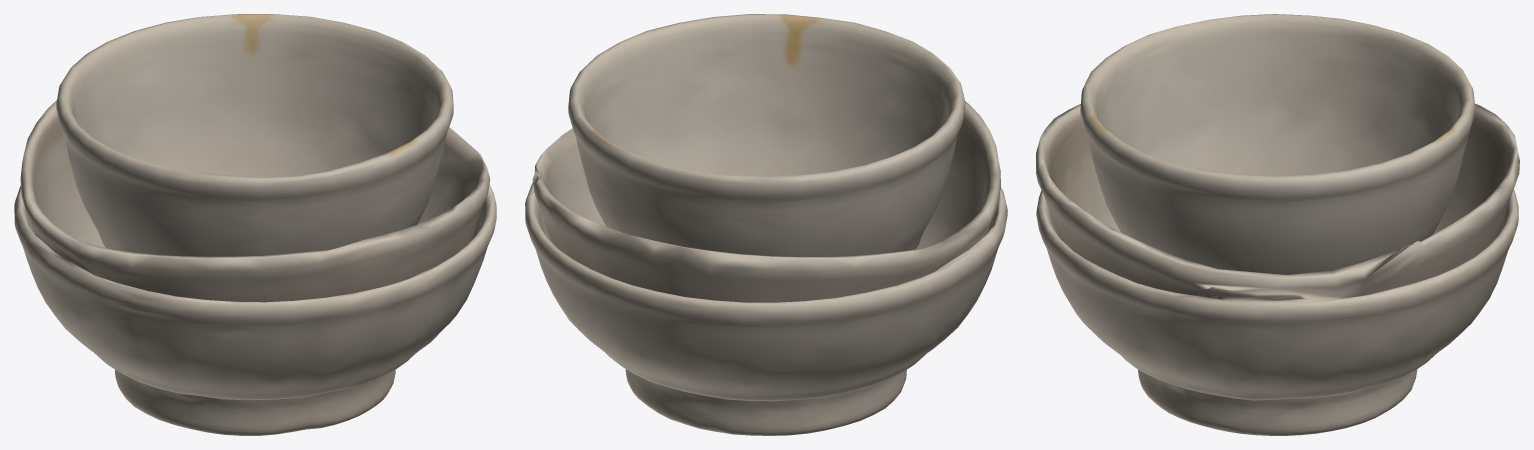
The model's file is BowlStack.fbx.
3 views of the same model, side by side, from view 1: azimuth 30°, elevation 25°; view 2: azimuth 150°, elevation 25°; view 3: azimuth 270°, elevation 25° (orthographic).
Visible parts, largest first — view 1: Mesh_0; view 2: Mesh_0; view 3: Mesh_0.
Boxes of the visible parts, box(x1,y1,x2,y2) form: Mesh_0: box(14, 14, 496, 435); Mesh_0: box(525, 14, 1007, 435); Mesh_0: box(1036, 14, 1519, 435).
Bounding box in the file's own units: 189 × 123 × 189.
1 material, 1 textured.
